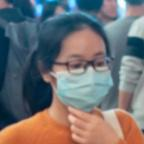OK: (54, 47, 112, 112)
